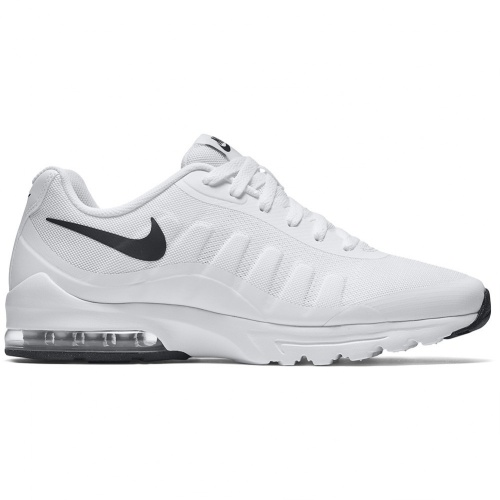nike: (44, 210, 175, 266)
